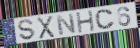6: (117, 6, 133, 27)
C: (95, 9, 116, 31)
H: (75, 9, 96, 34)
N: (55, 13, 77, 37)
S: (17, 19, 37, 41)
X: (36, 15, 56, 40)
